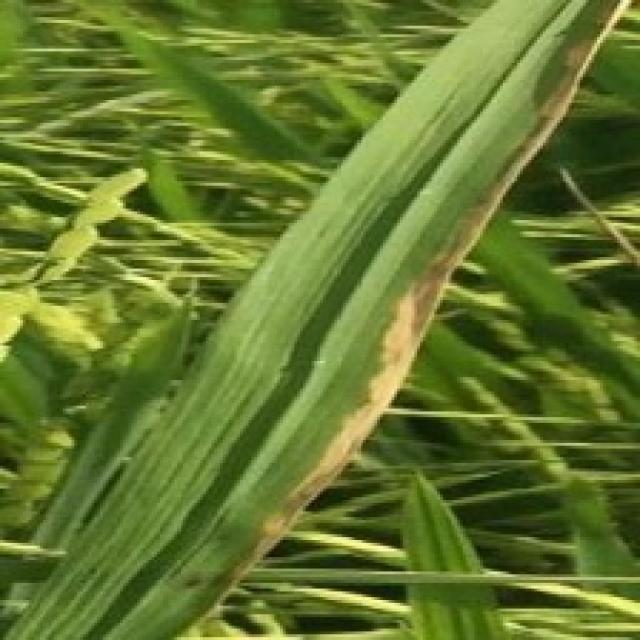Rice___Bacterial_Leaf_Blight: (2, 0, 635, 637)
